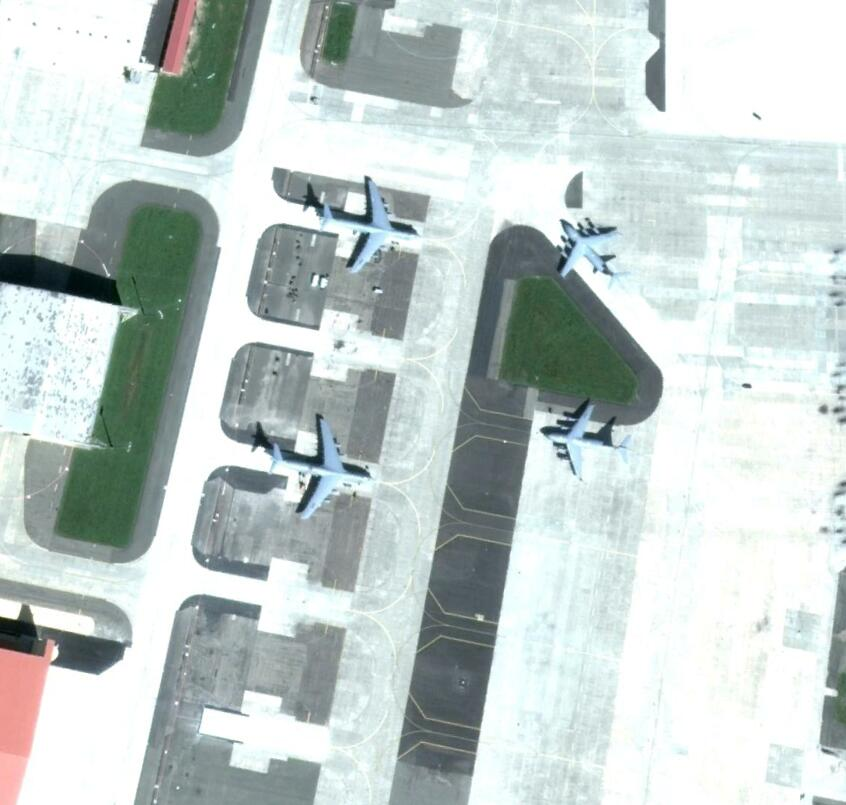A3: (540, 402, 631, 480), (556, 217, 625, 285)
A4: (271, 413, 379, 519), (321, 173, 422, 276)
